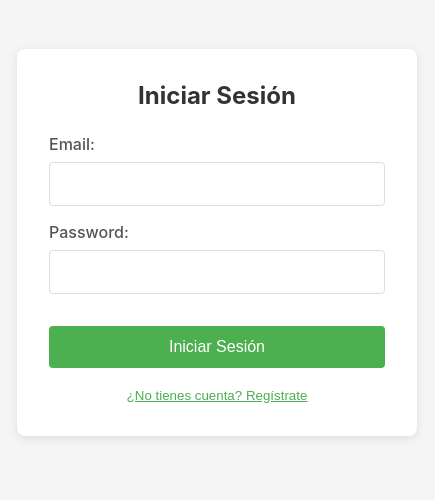
Scenario: Authentication Flow › debería cambiar entre login y registro
This screenshot has width=435, height=500.
Cambiar a registro
Click the button "¿No tienes cuenta? Regístrate": (218, 396) [127,388,308,403]
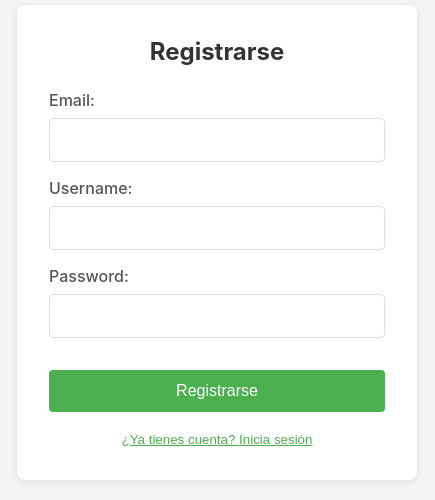
expect the heading "Registrarse" is shown: met, box [150,36,284,66]
expect the field with id "username" is shown: met, box [49,206,385,250]
expect the submit button reads "Registrarse": met, box [49,370,385,412]
Volver a login
Click the button "¿Ya tienes cuenta? Inicia sesión": (218, 440) [122,432,313,447]
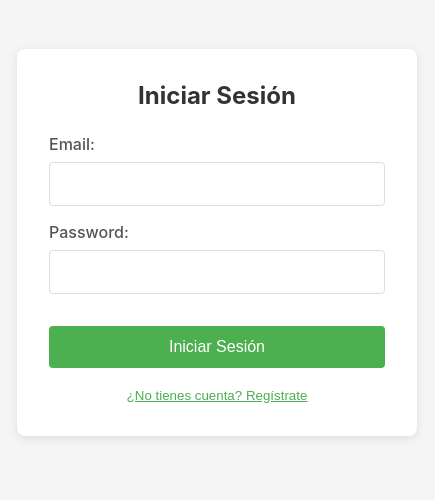
expect the heading "Iniciar Sesión" is shown: met, box [138,80,296,110]
expect the label with id "username" is gone: met
